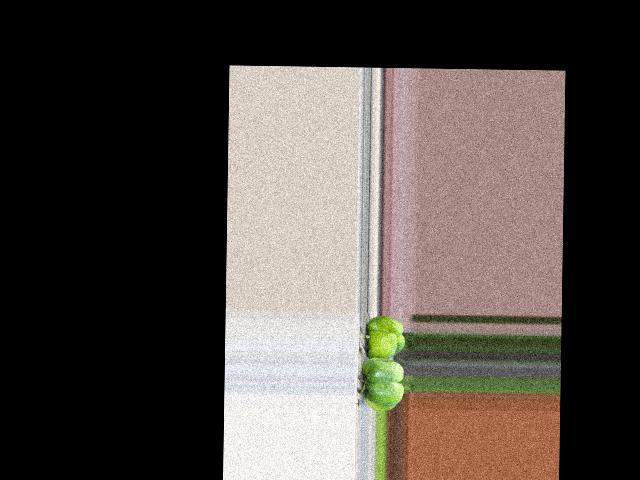bell_pepper: (362, 313, 407, 359)
